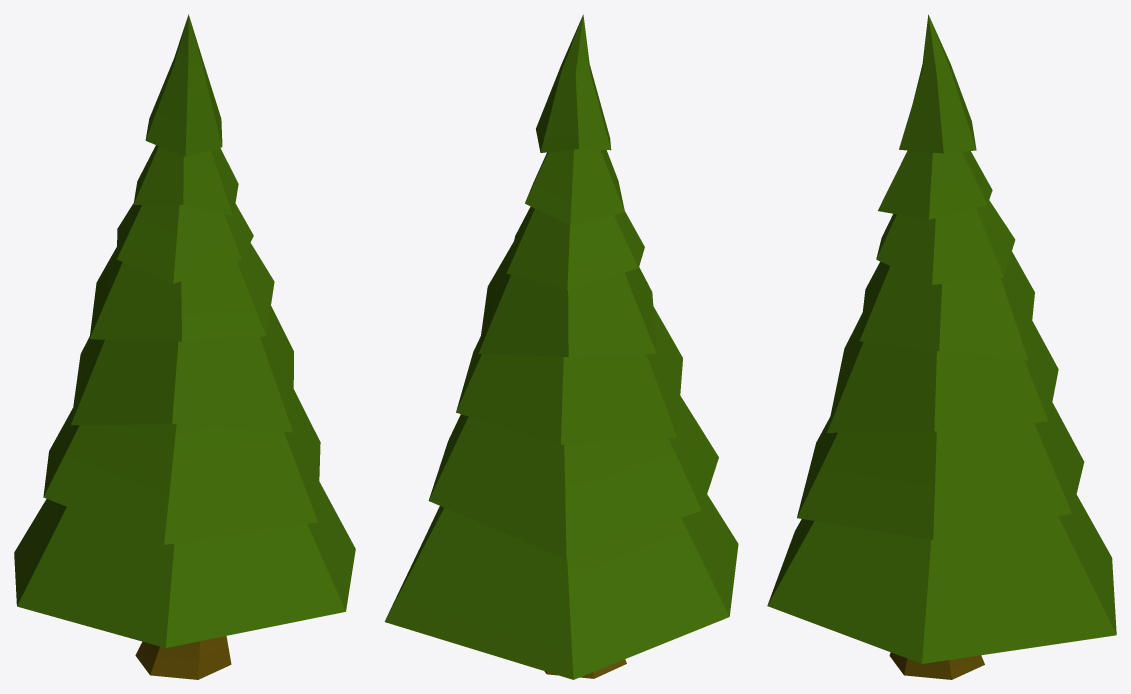
Rendered from Pine_tree_big (1).fbx.
3 views of the same model, side by side, from view 1: azimuth 30°, elevation 25°; view 2: azimuth 150°, elevation 25°; view 3: azimuth 270°, elevation 25° (orthographic).
Visible parts, largest first — view 1: pCylinder40, pCylinder39, pCylinder38, pCylinder35, pCylinder36, pCylinder33, pCylinder34, pCylinder37; view 2: pCylinder40, pCylinder39, pCylinder38, pCylinder35, pCylinder36, pCylinder34, pCylinder33; view 3: pCylinder40, pCylinder39, pCylinder38, pCylinder35, pCylinder36, pCylinder34, pCylinder33, pCylinder37.
Boxes of the visible parts, <box> form: pCylinder40: <box>14,482,355,647</box>; pCylinder39: <box>43,389,320,544</box>; pCylinder38: <box>70,306,293,432</box>; pCylinder35: <box>89,243,274,341</box>; pCylinder36: <box>116,203,253,283</box>; pCylinder33: <box>145,14,222,156</box>; pCylinder34: <box>133,145,238,216</box>; pCylinder37: <box>135,636,231,679</box>; pCylinder40: <box>384,494,738,679</box>; pCylinder39: <box>428,396,718,559</box>; pCylinder38: <box>456,306,682,444</box>; pCylinder35: <box>478,210,656,356</box>; pCylinder36: <box>506,206,644,289</box>; pCylinder34: <box>525,149,624,225</box>; pCylinder33: <box>536,14,611,152</box>; pCylinder40: <box>767,495,1116,663</box>; pCylinder39: <box>797,402,1084,539</box>; pCylinder38: <box>827,313,1058,432</box>; pCylinder35: <box>859,207,1034,360</box>; pCylinder36: <box>876,200,1015,284</box>; pCylinder34: <box>878,150,992,219</box>; pCylinder33: <box>899,14,976,153</box>; pCylinder37: <box>889,652,984,679</box>.
Bounding box in the file's own units: 8.88 × 17.01 × 8.33.
